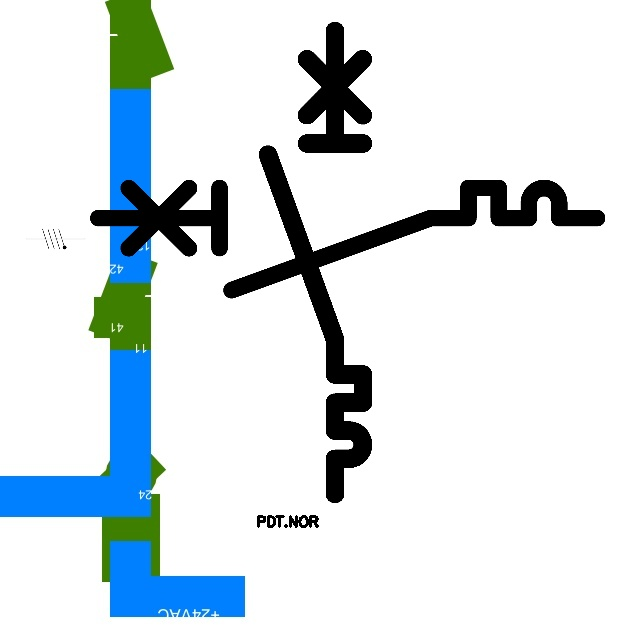interruptor_termomagnetico: (85, 175, 610, 303), (256, 19, 375, 506)
